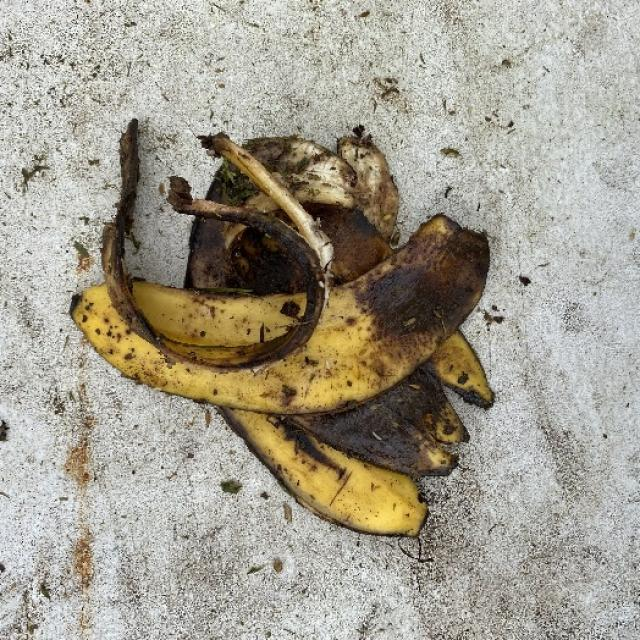organik: (90, 120, 502, 547)
